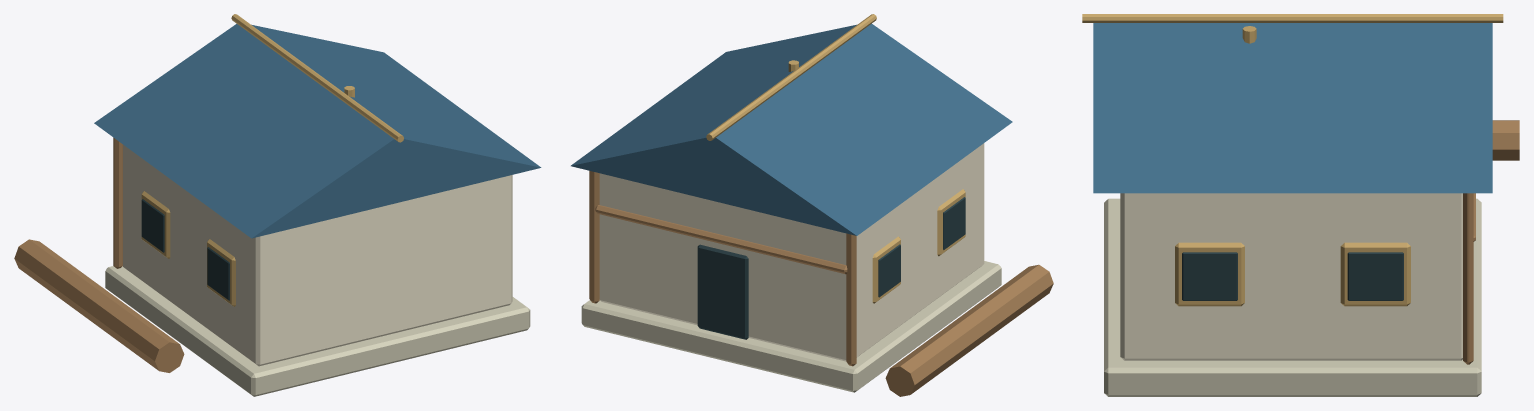
Rendered from level_04.glb.
The picture shows the model from 3 angles, left to right: view 1: azimuth 30°, elevation 25°; view 2: azimuth 150°, elevation 25°; view 3: azimuth 270°, elevation 25°; orthographic projection. The views are drawn at different scales.
Parts seen in each view (by area): view 1: timber_yard — level 04; view 2: timber_yard — level 04; view 3: timber_yard — level 04.
Part boxes in pixels (box(x1,y1,x2,y2)): timber_yard — level 04: box(14, 14, 541, 396); timber_yard — level 04: box(571, 14, 1053, 396); timber_yard — level 04: box(1082, 14, 1519, 396).
Bounding box in the file's own units: 4.87 × 3.05 × 4.05.
